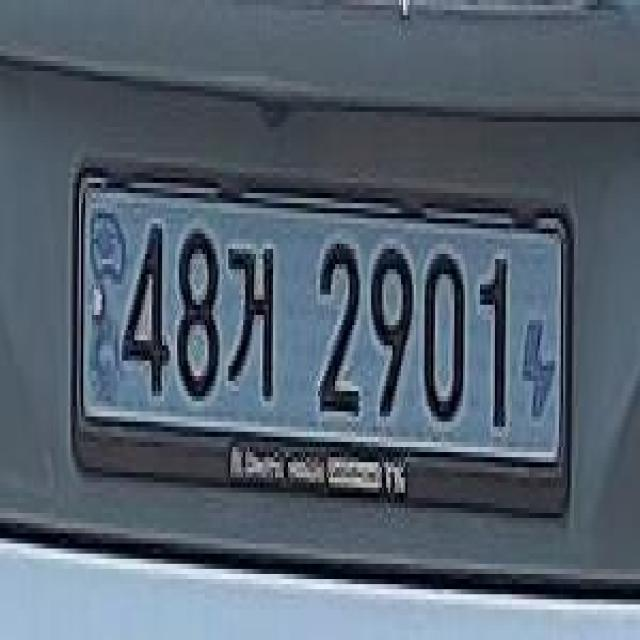EV_plate: (73, 150, 573, 526)
